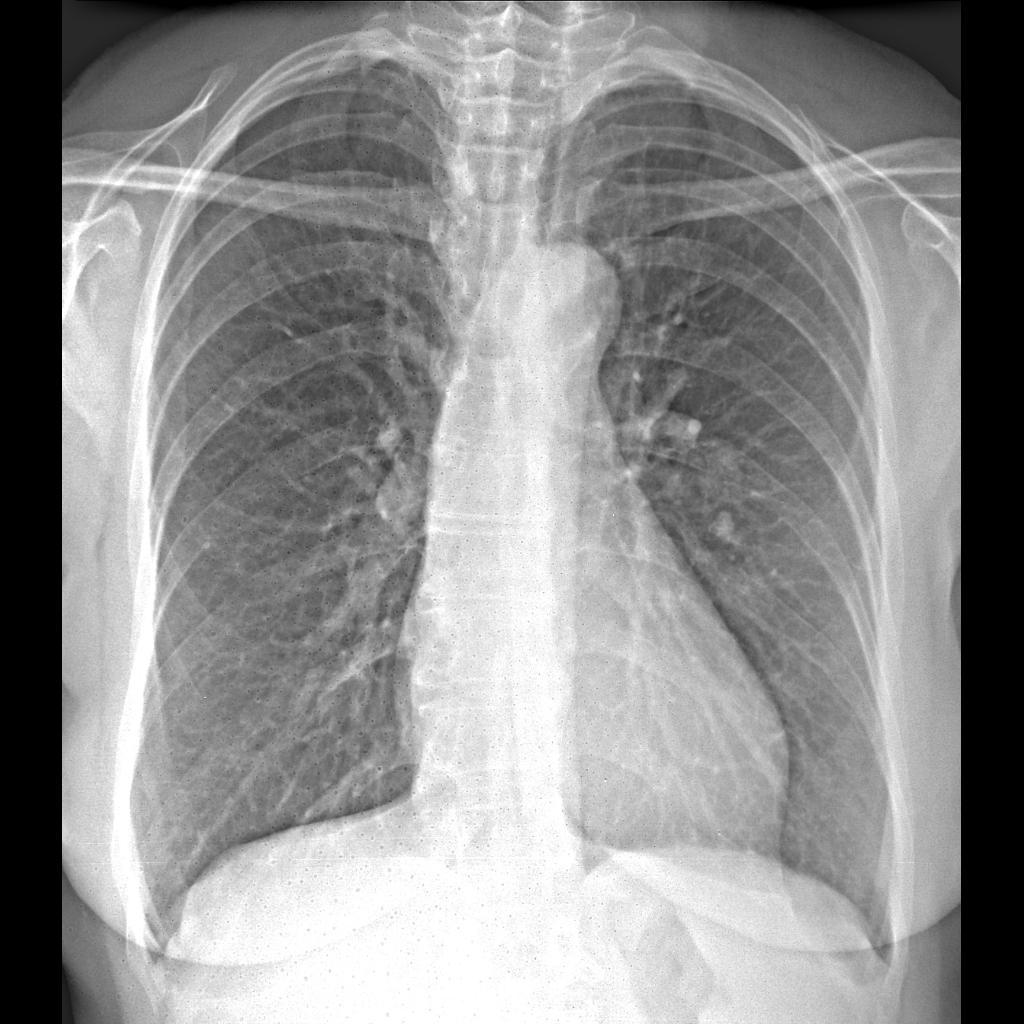Nodule: (703, 498, 749, 548)
